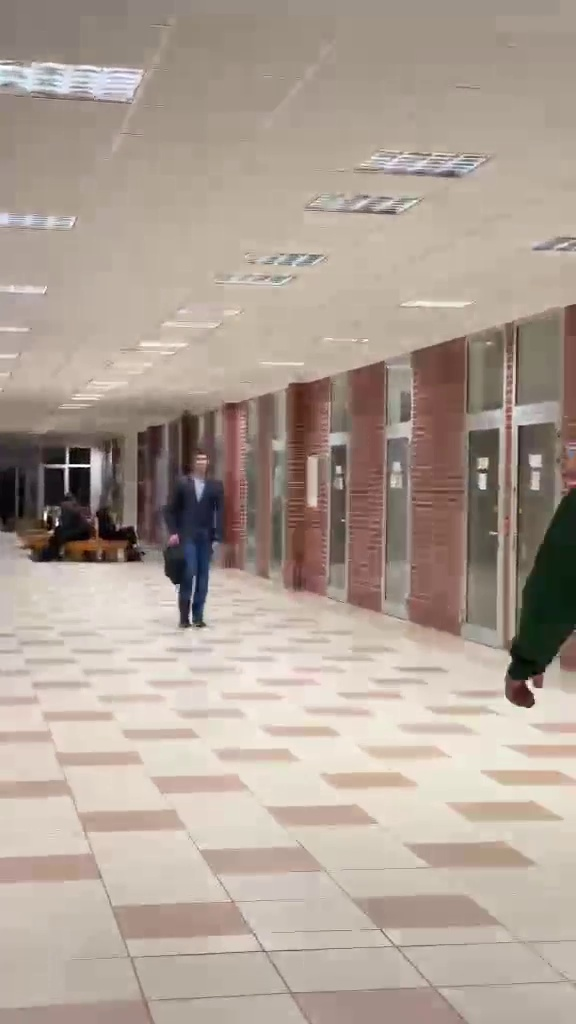no vest: (153, 443, 238, 626)
